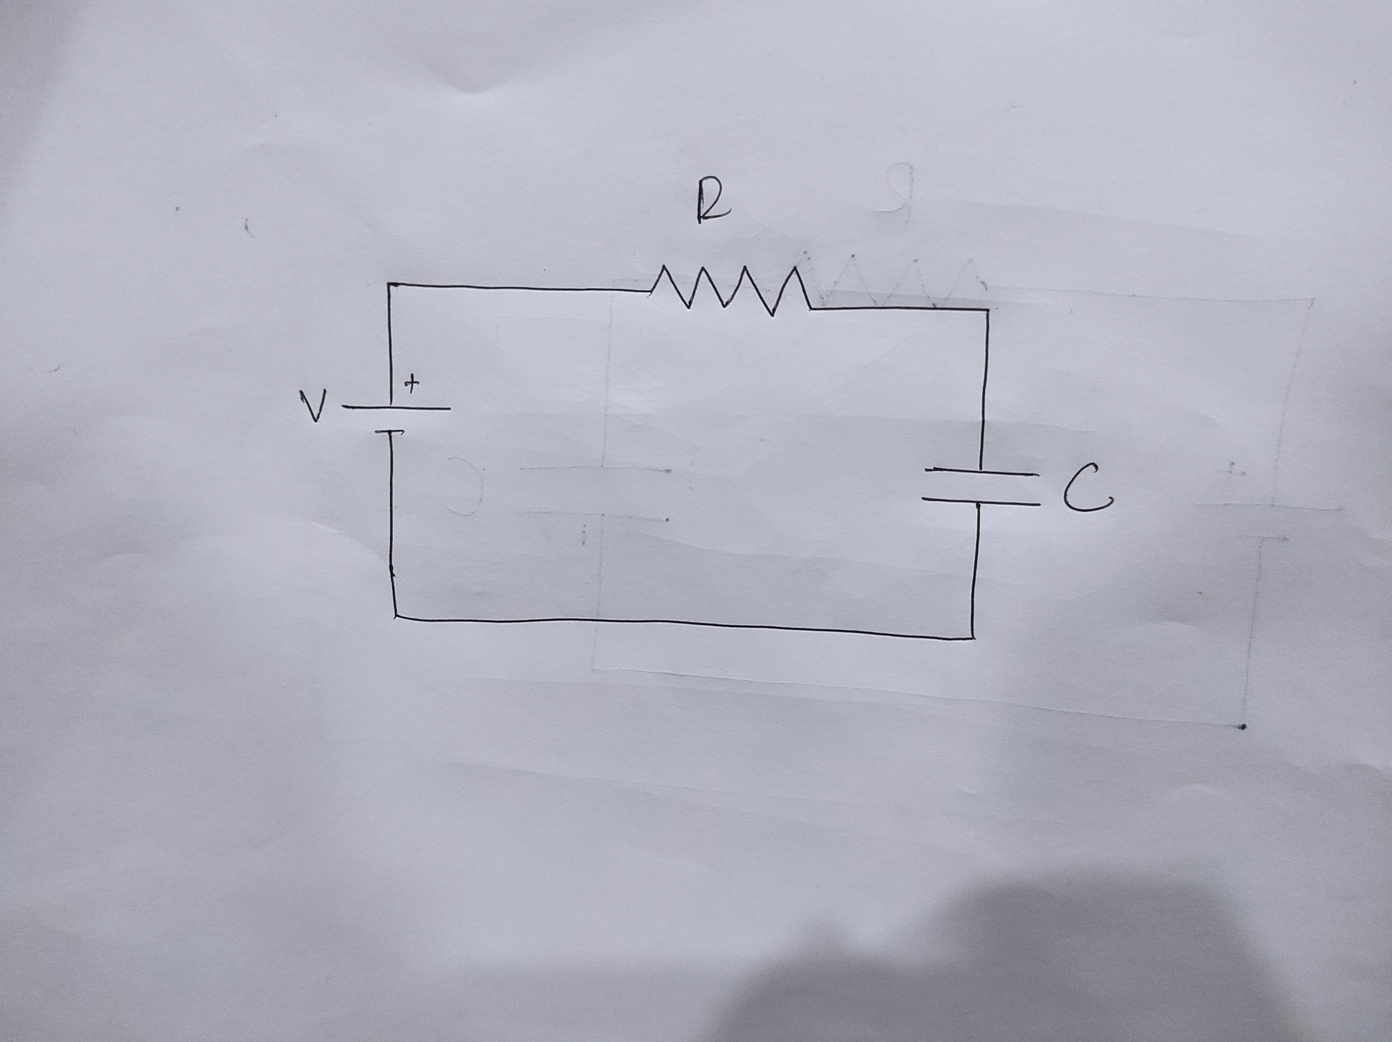capacitor.unpolarized: (912, 461, 1049, 514)
junction: (381, 275, 402, 294), (961, 627, 982, 646), (976, 301, 996, 319), (388, 606, 405, 625)
resistor: (645, 260, 817, 321)
text: (1060, 459, 1115, 516), (687, 167, 735, 229), (295, 384, 329, 424)
voltage.dc: (336, 370, 453, 435)
